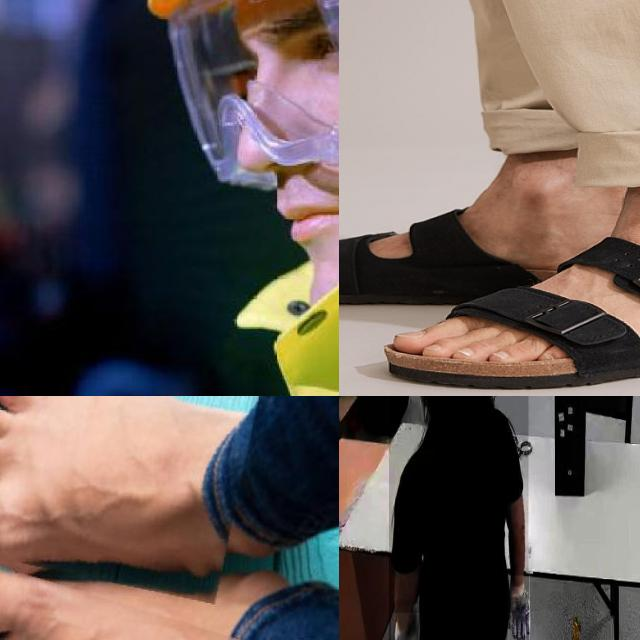Barefoots: (0, 396, 248, 568), (0, 566, 248, 640)
Sandals: (376, 174, 640, 396)
glasses: (148, 0, 339, 202)
hand_glove: (507, 575, 530, 640), (391, 612, 422, 640)
person: (140, 0, 339, 396), (389, 396, 529, 640)
